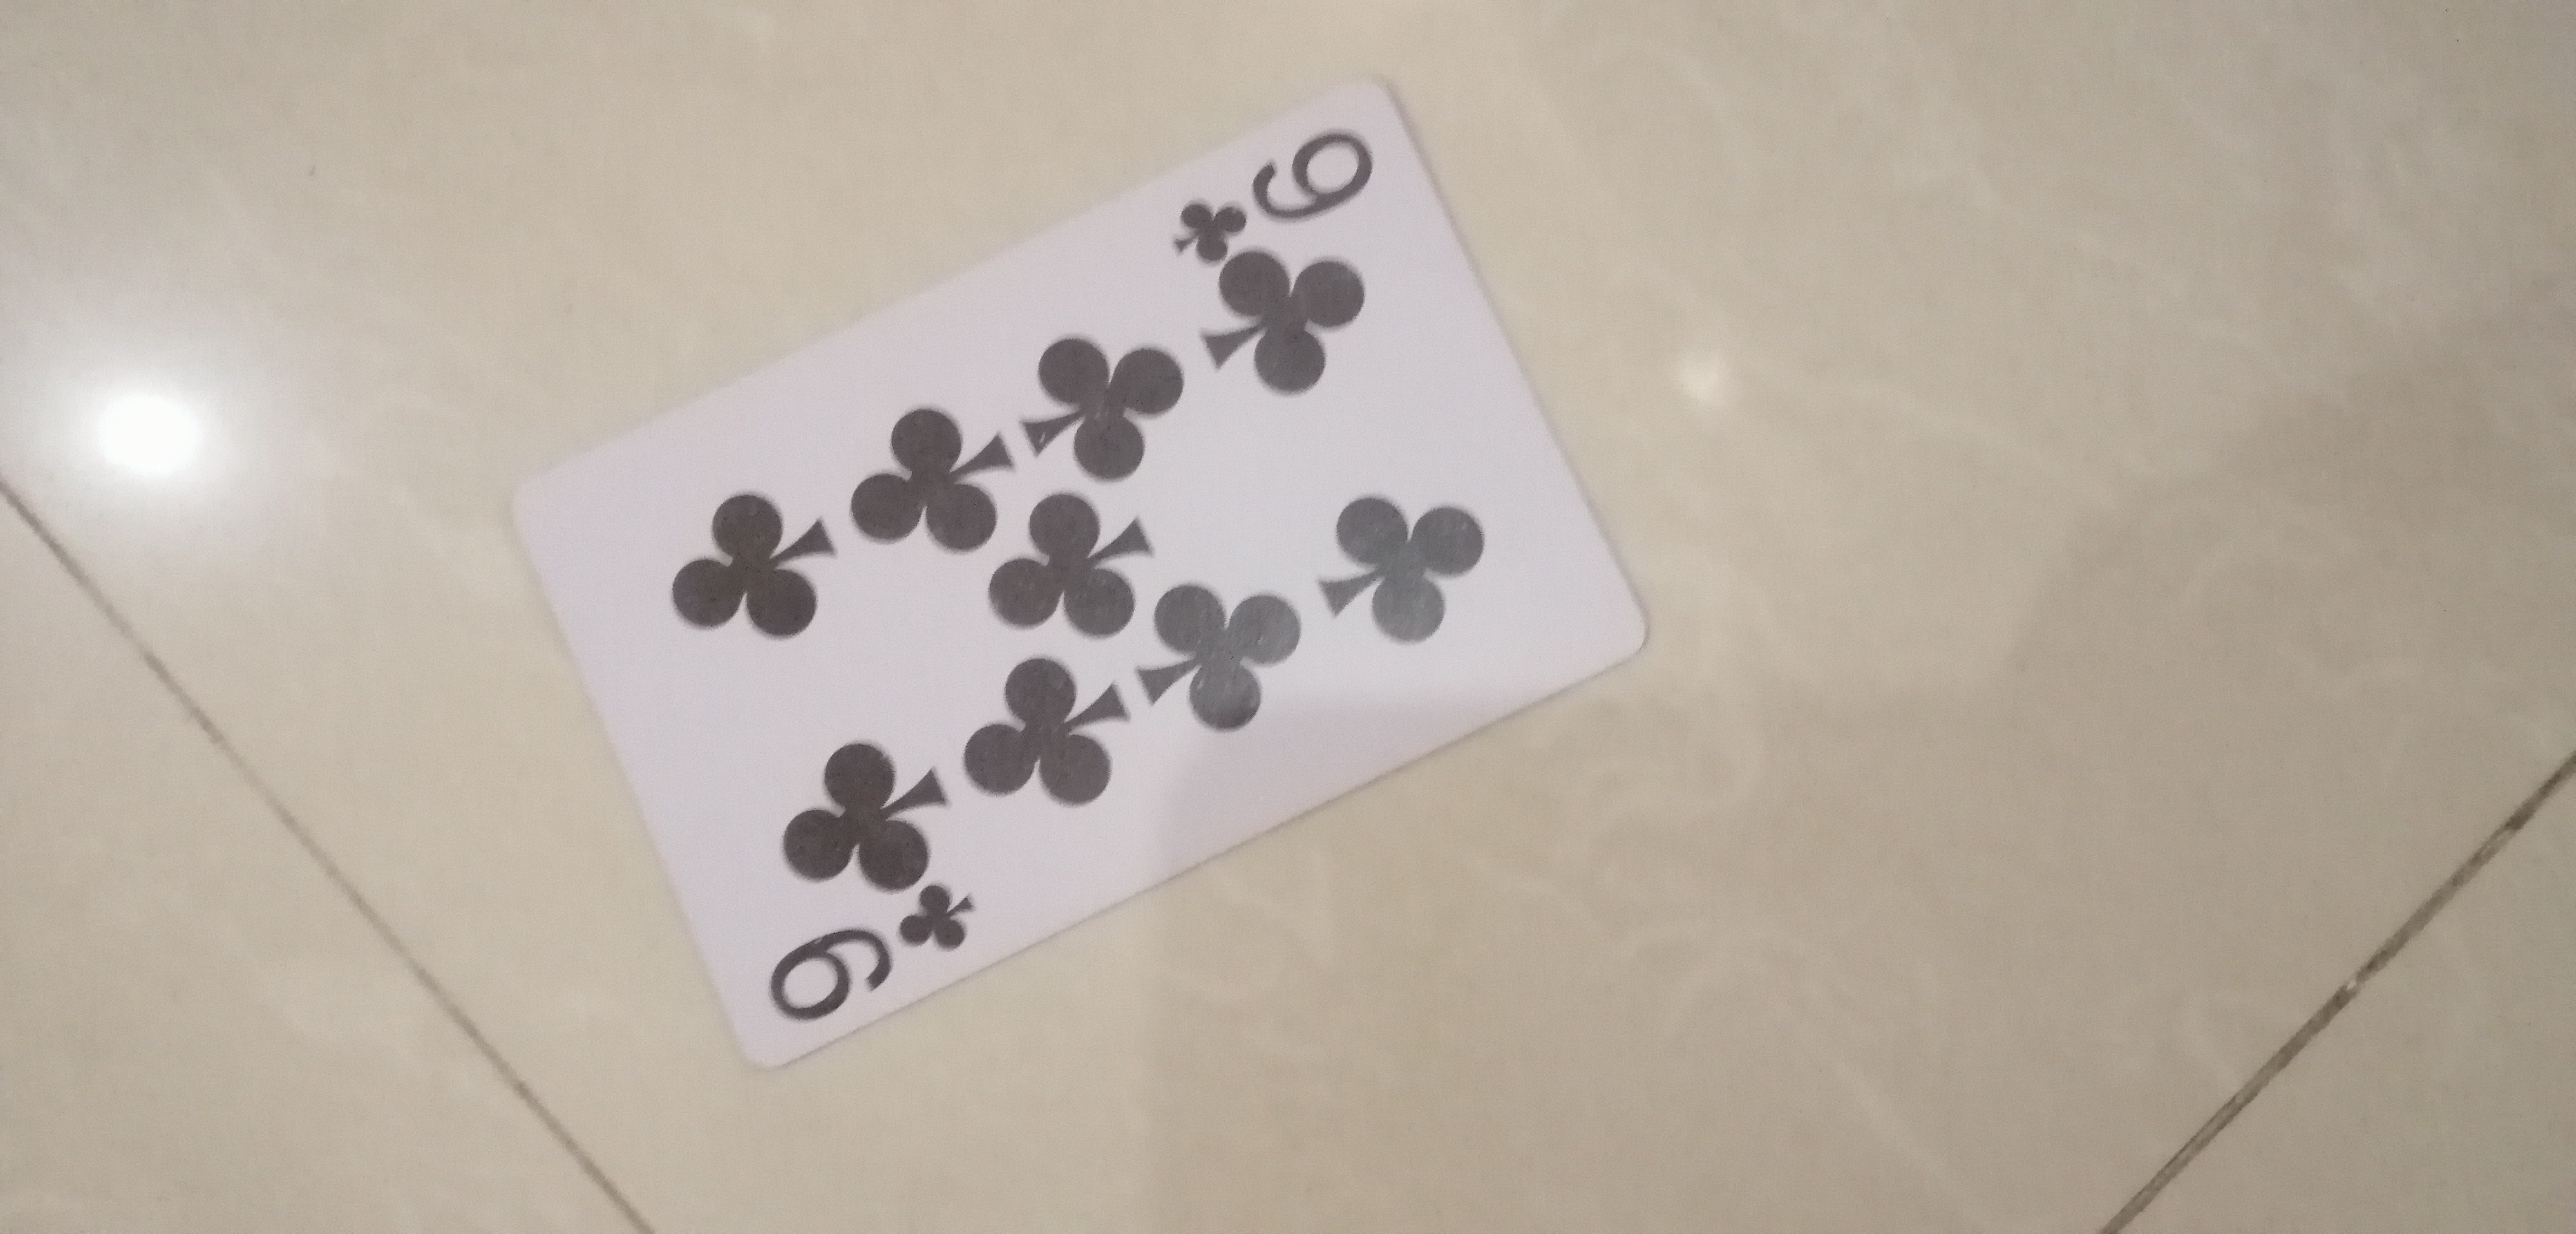nine: (522, 85, 1646, 1071)
